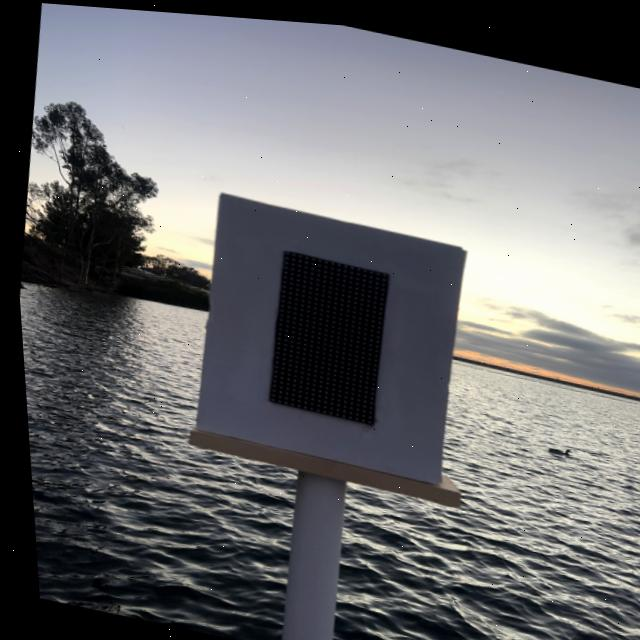led: (204, 210, 435, 462)
